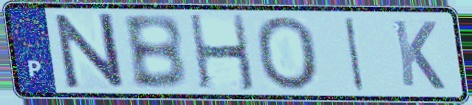B: (119, 12, 190, 92)
H: (186, 13, 259, 94)
I: (342, 15, 367, 94)
K: (390, 17, 449, 92)
N: (51, 11, 128, 91)
O: (252, 14, 322, 93)
